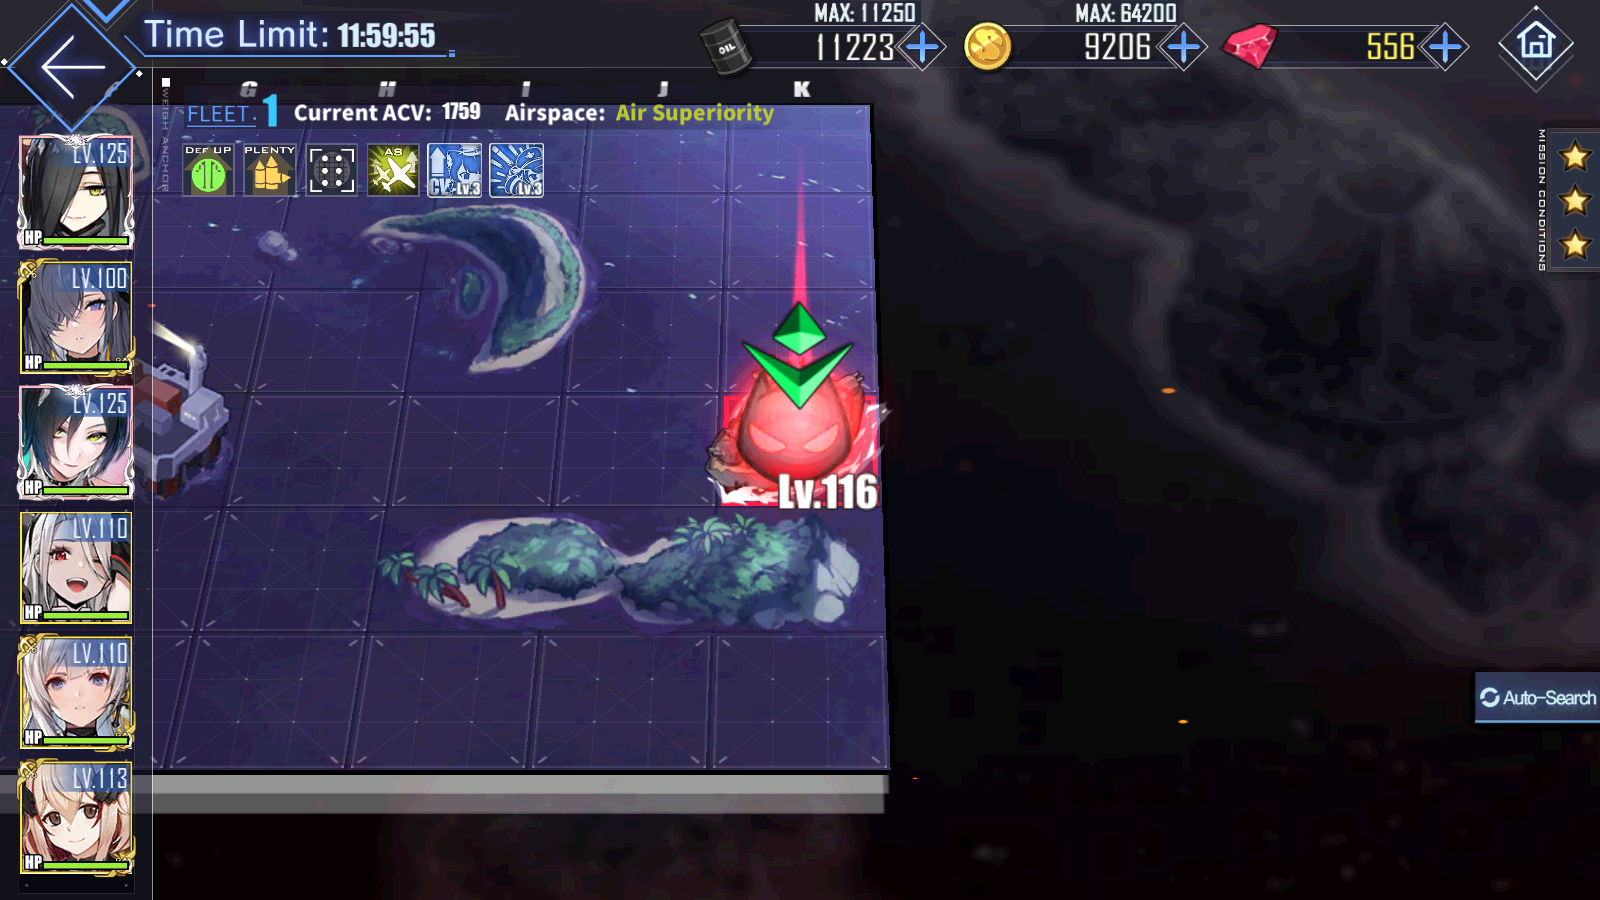boss: (704, 373, 880, 508)
